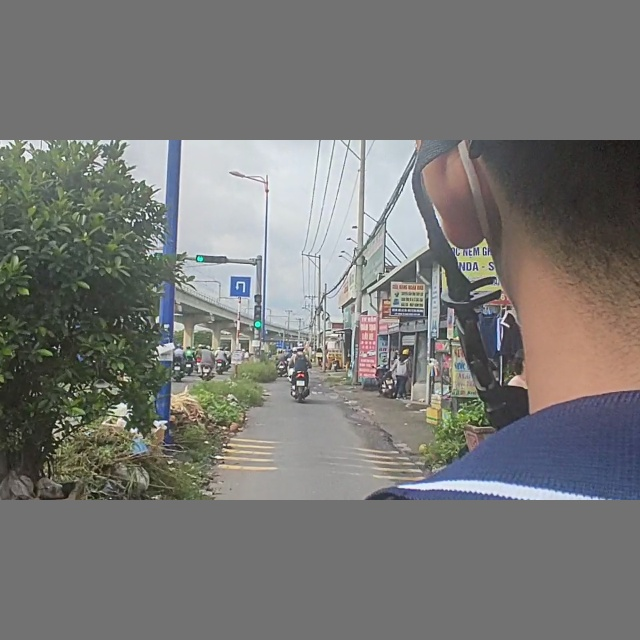I.409: (229, 275, 252, 299)
